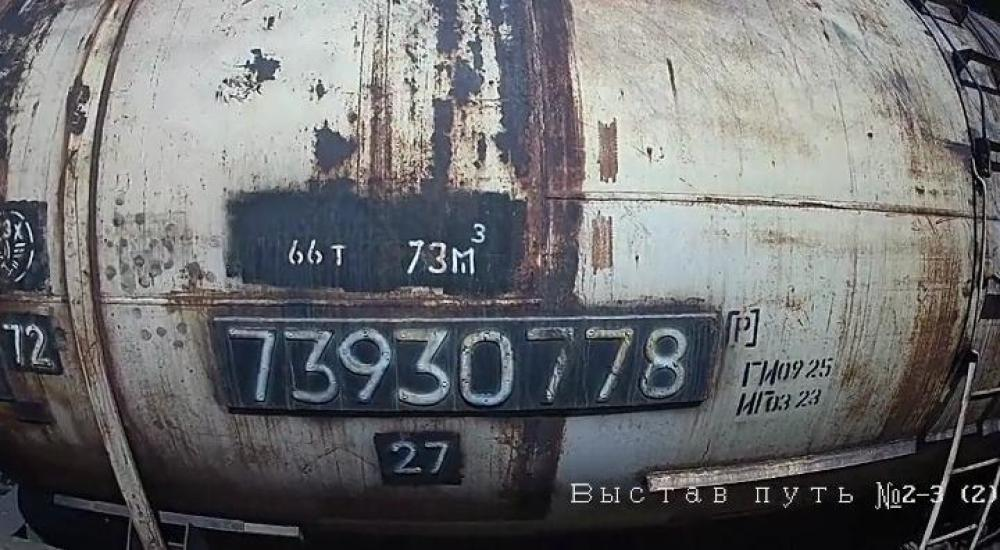Wagon-number: (219, 314, 696, 409)
